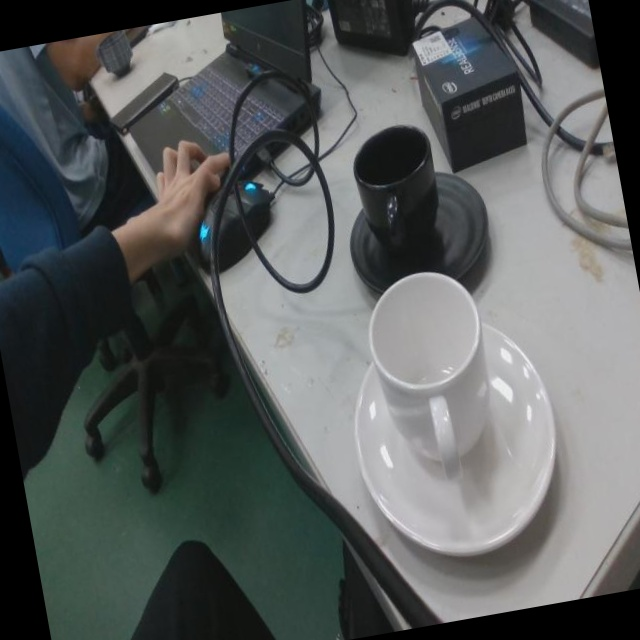black: (341, 118, 487, 290)
white: (349, 266, 555, 563)
